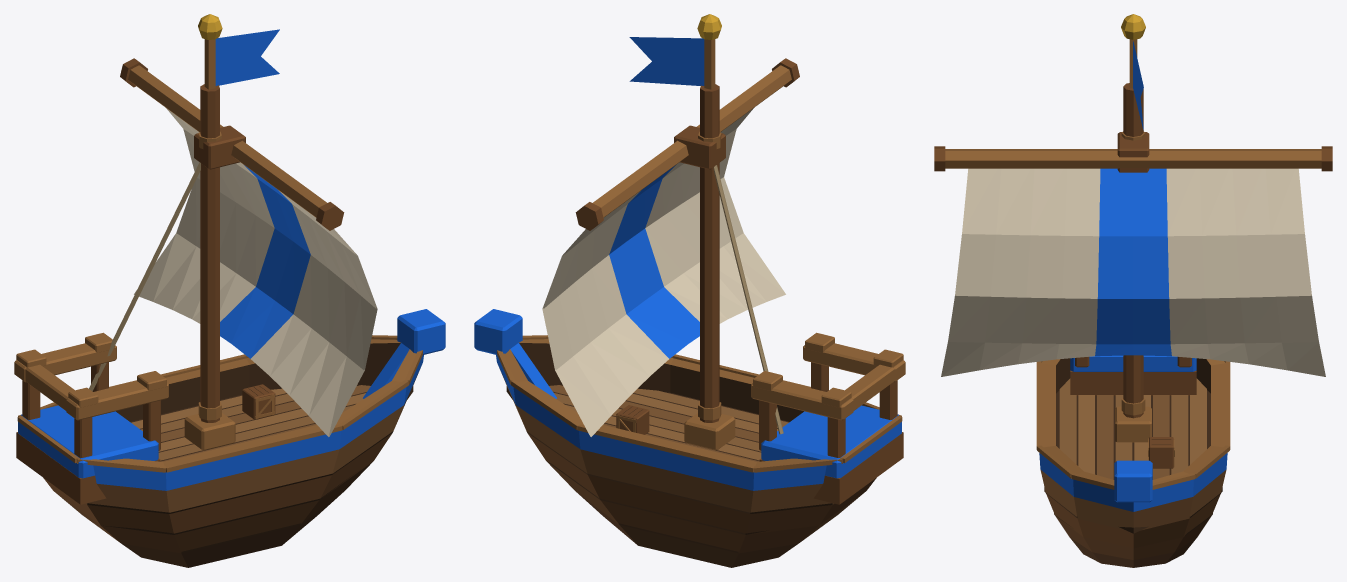
Rendered from ship.glb.
The picture shows the model from 3 angles, left to right: view 1: azimuth 30°, elevation 25°; view 2: azimuth 150°, elevation 25°; view 3: azimuth 270°, elevation 25°; orthographic projection.
Parts seen in each view (by area): view 1: ship; view 2: ship; view 3: ship.
Part boxes in pixels (<box>): ship: <box>14,14,445,567</box>; ship: <box>474,14,905,567</box>; ship: <box>934,14,1332,567</box>.
Bounding box in the file's own units: 0.4204 × 0.5372 × 0.3745.
